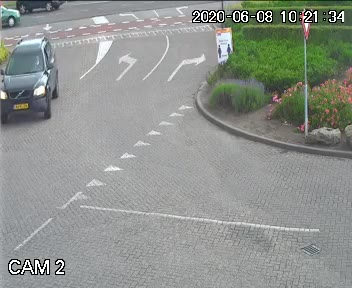car: (0, 32, 67, 132)
